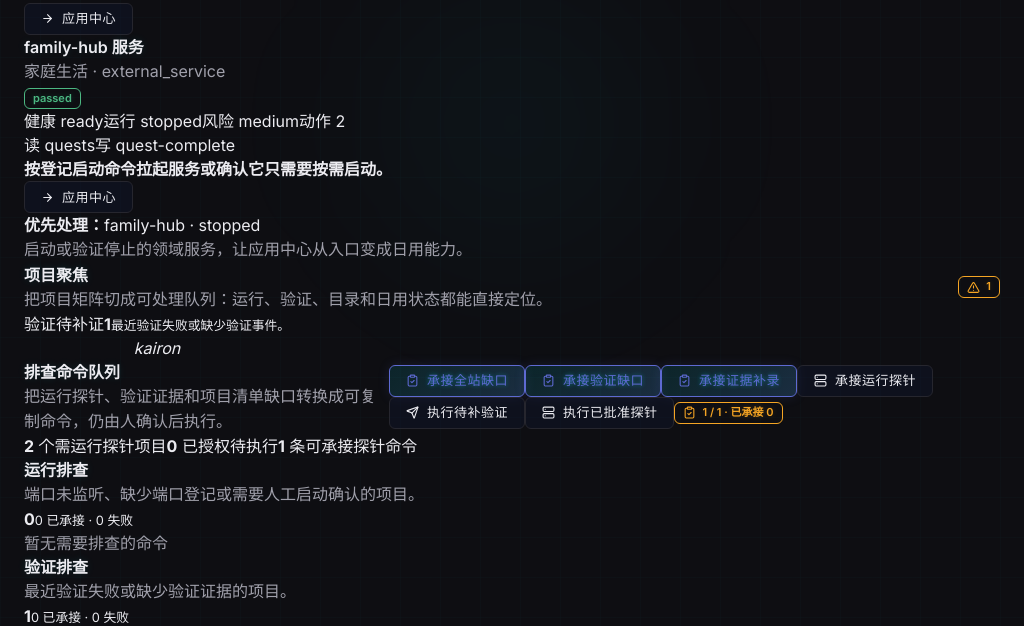
Test case: SystemMapView interaction › exposes evidence-only verification triage without executing commands
This screenshot has width=1024, height=626.
(page scrolled)
Click the button with aria-label "批量承接验证证据补录".
click(729, 381)  # box [661,365,797,397]
(page scrolled)
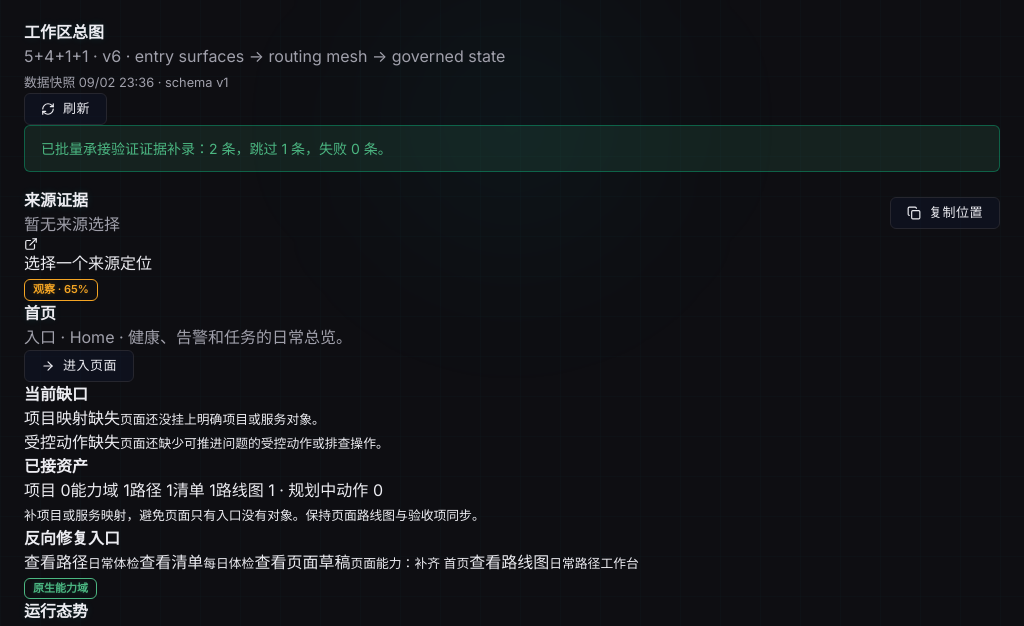
Expected: the message shows "已批量承接验证证据补录：2 条", [41,140,392,157]
